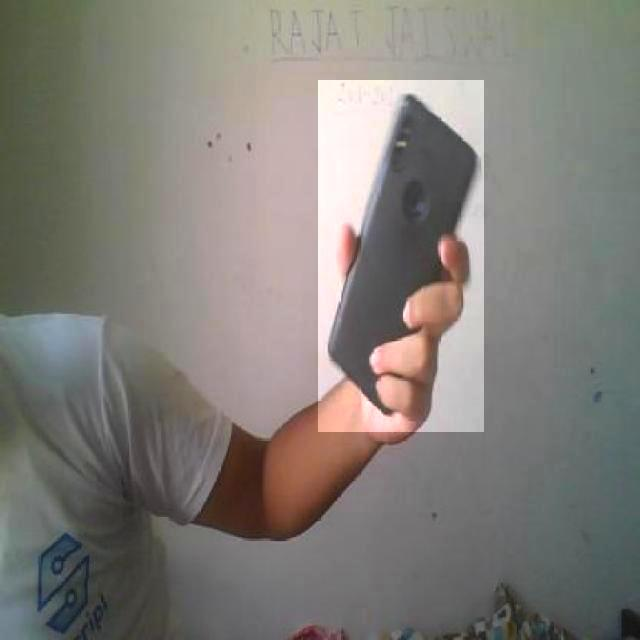phone: (318, 80, 484, 433)
